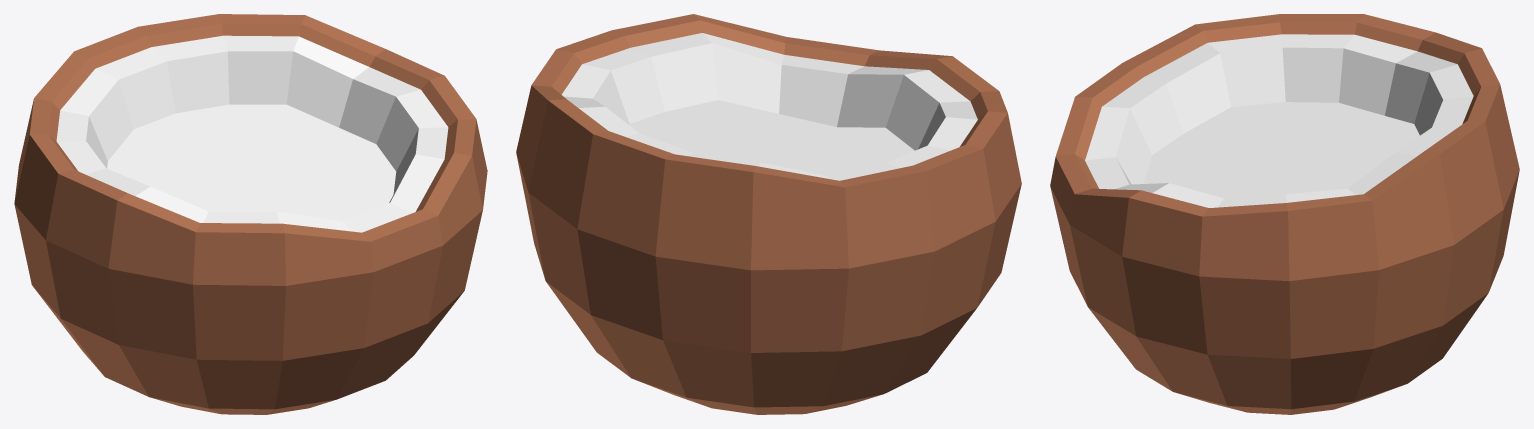
The model's file is halfeaten_coconut.glb.
3 views of the same model, side by side, from view 1: azimuth 30°, elevation 25°; view 2: azimuth 150°, elevation 25°; view 3: azimuth 270°, elevation 25° (orthographic). The views are drawn at different scales.
Visible parts, largest first — view 1: HalfeatenCoconut; view 2: HalfeatenCoconut; view 3: HalfeatenCoconut.
Boxes of the visible parts, bbox=[...] form: HalfeatenCoconut: bbox=[14, 14, 487, 414]; HalfeatenCoconut: bbox=[516, 14, 1021, 414]; HalfeatenCoconut: bbox=[1050, 14, 1519, 414].
Bounding box in the file's own units: 0.5183 × 0.3461 × 0.4933.
1 material, 1 textured.
